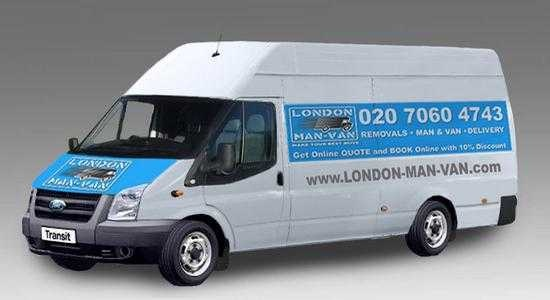van: (22, 39, 518, 287)
